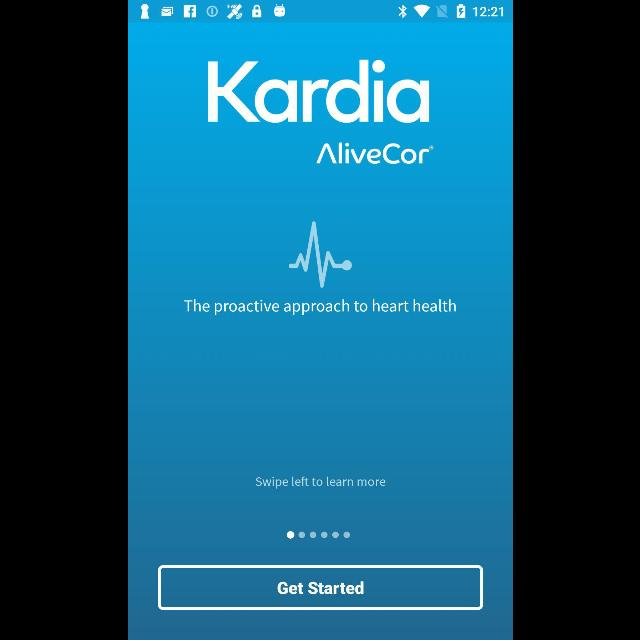image: (288, 222, 352, 288), (315, 142, 433, 164)
pageindicator: (286, 532, 350, 538)
text: (208, 60, 428, 124), (183, 299, 455, 315), (255, 477, 385, 489)
textbutton: (158, 566, 482, 610)
uppertaskbar: (128, 1, 512, 23)
